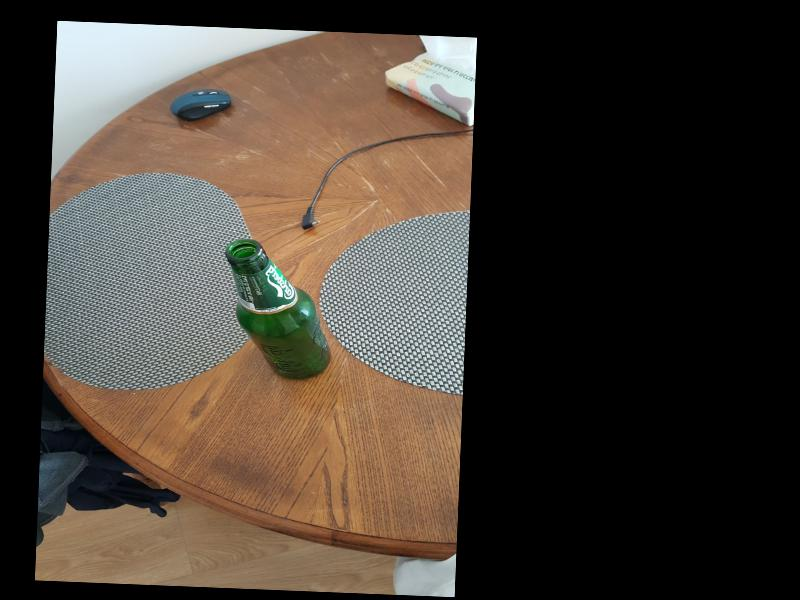Beer: (219, 238, 340, 383)
